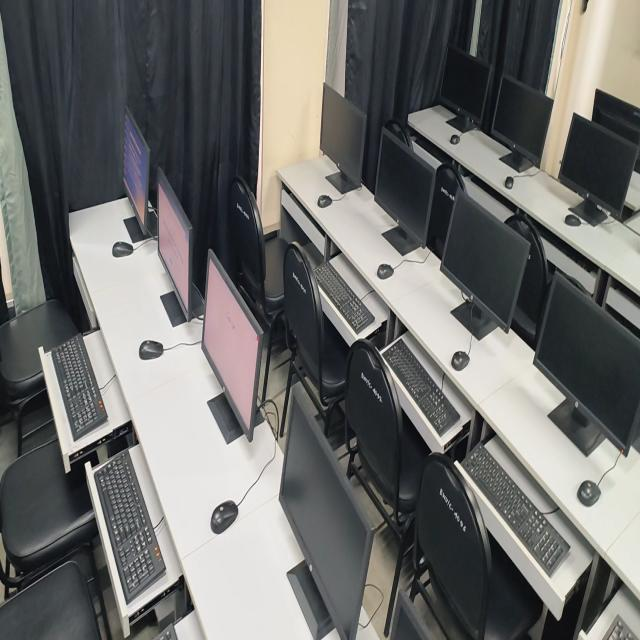Chair: (345, 340, 425, 635), (416, 454, 491, 639), (0, 440, 97, 575), (284, 242, 349, 434), (229, 178, 288, 324), (0, 561, 101, 639), (0, 300, 79, 396), (504, 211, 548, 349), (426, 164, 466, 259), (384, 119, 412, 147)
Keyboard: (460, 443, 569, 575), (95, 450, 166, 615), (382, 339, 459, 434), (51, 335, 107, 441), (314, 261, 374, 334), (603, 616, 638, 639)
Monitor: (280, 391, 375, 639), (533, 280, 640, 456), (440, 191, 530, 340), (202, 251, 269, 441), (559, 114, 636, 226), (374, 128, 435, 246), (157, 168, 202, 321), (491, 76, 554, 165), (321, 84, 366, 194), (439, 46, 490, 124), (123, 107, 150, 233), (592, 89, 640, 148)
Mouse: (211, 501, 238, 534), (577, 480, 601, 507), (139, 340, 163, 360), (451, 350, 470, 370), (112, 241, 133, 257), (377, 264, 394, 279), (564, 213, 581, 226), (317, 194, 332, 208), (504, 176, 514, 189)
